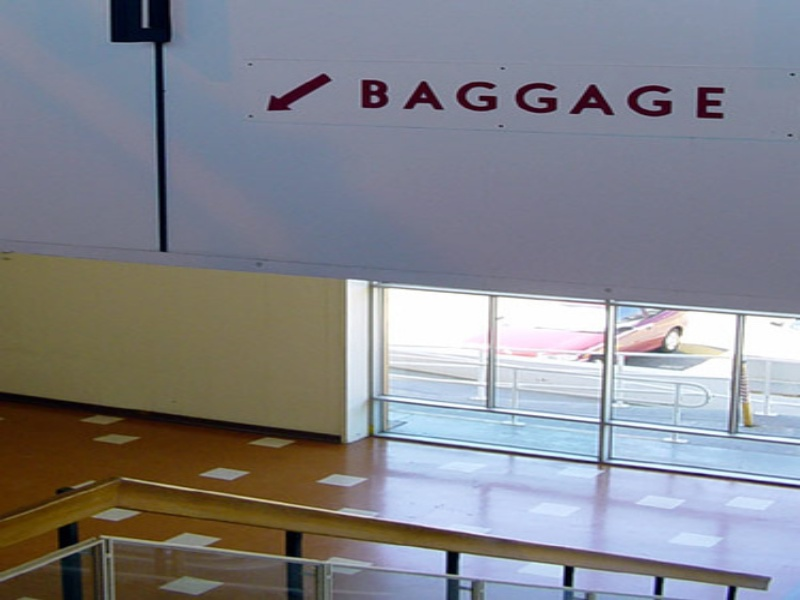car: (461, 300, 689, 364)
